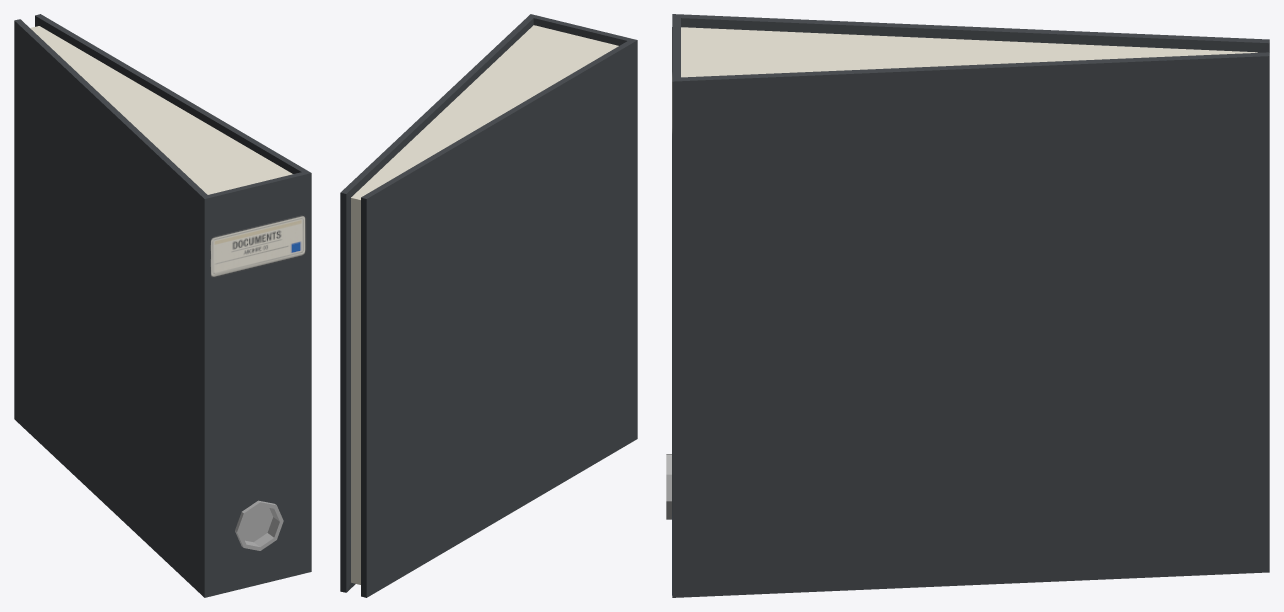
Rendered from Document_Cover_Black.fbx.
3 views of the same model, side by side, from view 1: azimuth 30°, elevation 25°; view 2: azimuth 150°, elevation 25°; view 3: azimuth 270°, elevation 25° (orthographic). The views are drawn at different scales.
Visible parts, largest first — view 1: Cape_Office.004; view 2: Cape_Office.004; view 3: Cape_Office.004.
Boxes of the visible parts, x1,y1,x2,y2 form: Cape_Office.004: (14,14,311,597); Cape_Office.004: (340,14,637,597); Cape_Office.004: (666,14,1269,597).
Size of the model in its own units: 8 by 28.5 by 30.17.
